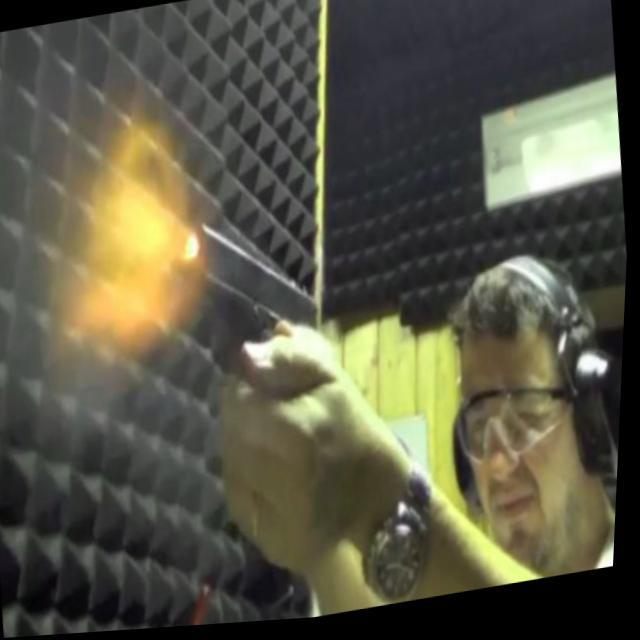weapon: (103, 76, 354, 413)
